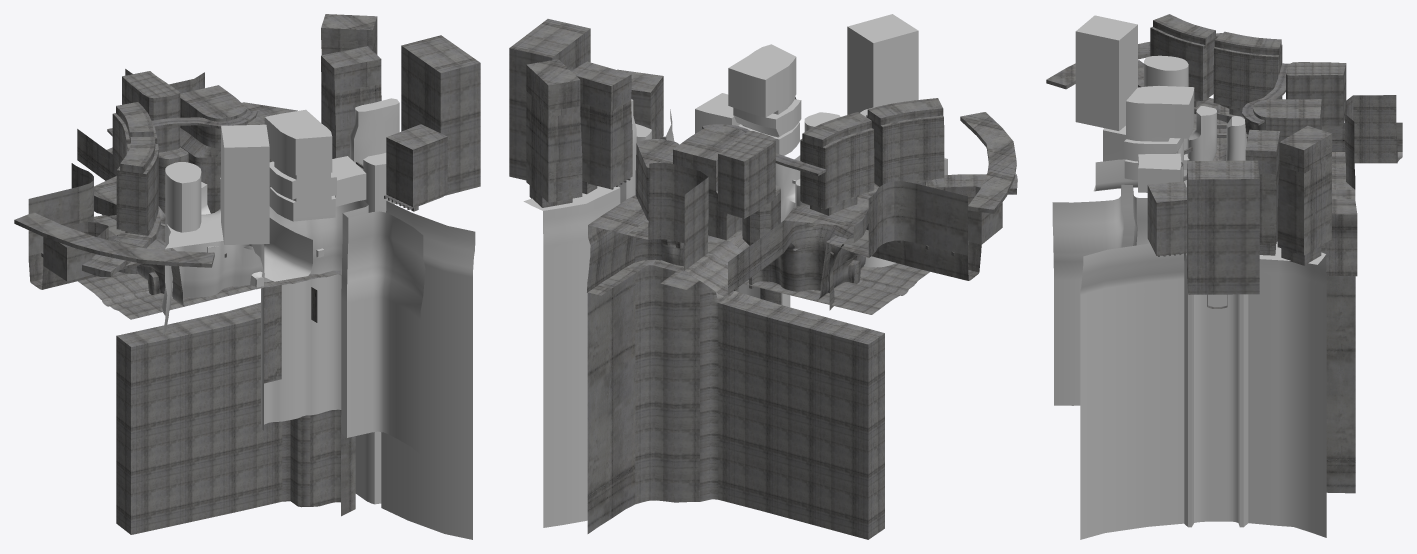
Rendered from SM_StLucia_04_00.fbx.
3 views of the same model, side by side, from view 1: azimuth 30°, elevation 25°; view 2: azimuth 150°, elevation 25°; view 3: azimuth 270°, elevation 25° (orthographic). The views are drawn at different scales.
Parts seen in each view (by area): view 1: SM_StLucia_04_00, SM_BetonDarme_01_02, SM_BetonDarme_01_03, SM_BetonDarme_01_07, SM_BetonDarme_01_05, SM_BetonDarme_01_06, SM_BetonDarme_01_01, SM_BetonDarme_01_04; view 2: SM_StLucia_04_00, SM_BetonDarme_01_01, SM_BetonDarme_01_07, SM_BetonDarme_01_06, SM_BetonDarme_01_03, SM_BetonDarme_01_05, SM_BetonDarme_01_04, SM_BetonDarme_01_02; view 3: SM_BetonDarme_01_03, SM_BetonDarme_01_07, SM_BetonDarme_01_05, SM_BetonDarme_01_02, SM_BetonDarme_01_06, SM_BetonDarme_01_01, SM_StLucia_04_00, SM_BetonDarme_01_04.001, SM_BetonDarme_01_04.
Part boxes in pixels (x1,y1,x2,y2): SM_StLucia_04_00: (78,270,355,534); SM_BetonDarme_01_02: (162,162,425,454); SM_BetonDarme_01_03: (350,98,475,539); SM_BetonDarme_01_07: (321,14,480,206); SM_BetonDarme_01_05: (221,109,366,244); SM_BetonDarme_01_06: (14,71,257,267); SM_BetonDarme_01_01: (77,69,297,276); SM_BetonDarme_01_04: (28,163,184,306); SM_StLucia_04_00: (587,259,929,539); SM_BetonDarme_01_01: (587,126,1017,310); SM_BetonDarme_01_07: (509,19,663,202); SM_BetonDarme_01_06: (702,98,1016,218); SM_BetonDarme_01_03: (523,99,674,527); SM_BetonDarme_01_05: (695,14,918,155); SM_BetonDarme_01_04: (819,181,1002,298); SM_BetonDarme_01_02: (737,107,947,307); SM_BetonDarme_01_03: (1080,241,1326,539); SM_BetonDarme_01_07: (1147,125,1332,294); SM_BetonDarme_01_05: (1075,15,1194,192); SM_BetonDarme_01_02: (1052,55,1188,405); SM_BetonDarme_01_06: (1046,14,1346,126); SM_BetonDarme_01_01: (1138,60,1402,276); SM_StLucia_04_00: (1207,276,1355,493); SM_BetonDarme_01_04.001: (1183,106,1246,186); SM_BetonDarme_01_04: (1187,114,1248,160).
Size of the model in its own units: 29948 by 28458 by 22153.
